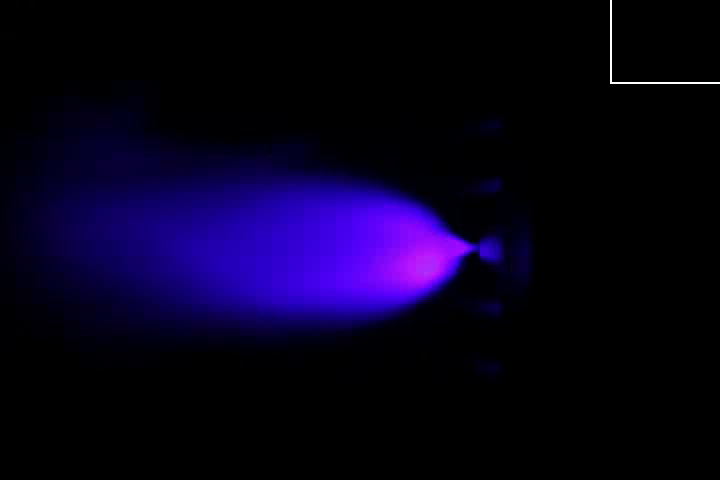burner cap: (476, 234, 503, 275)
stable: (362, 202, 480, 308)
